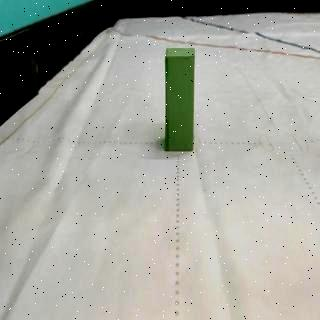greenbox: (164, 46, 198, 151)
